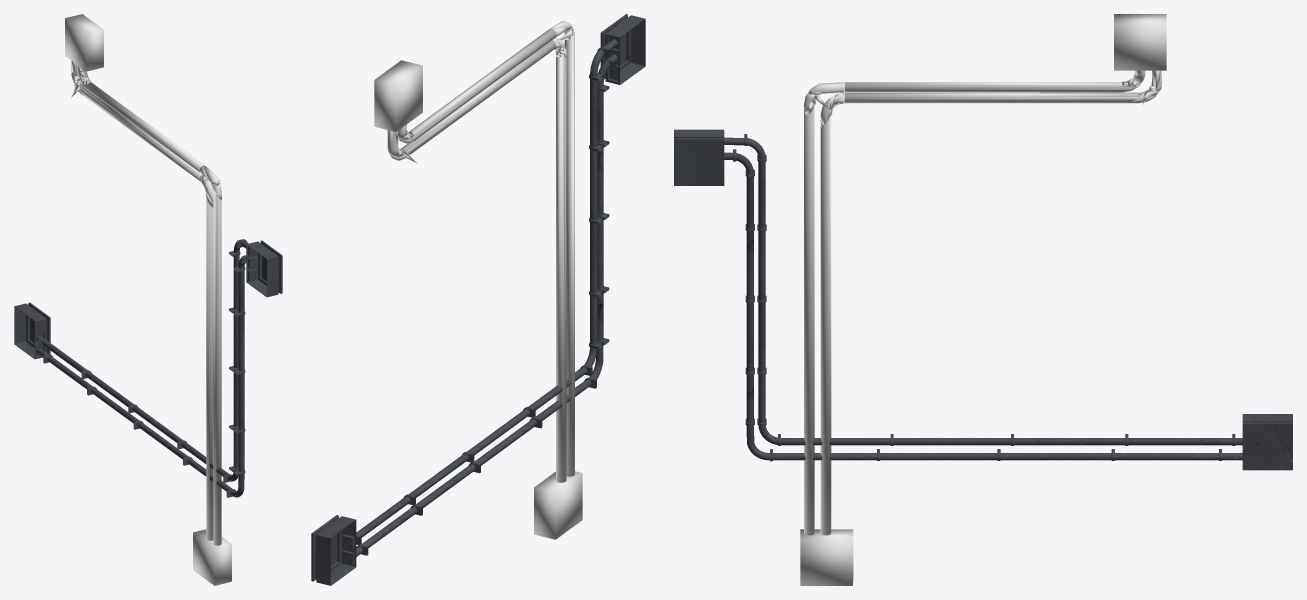
Rendered from SM_CablesAssemblyWall_03.fbx.
The picture shows the model from 3 angles, left to right: view 1: azimuth 30°, elevation 25°; view 2: azimuth 150°, elevation 25°; view 3: azimuth 270°, elevation 25°; orthographic projection. The views are drawn at different scales.
Visible parts, largest first — view 1: SM_CablesAssemblyWall_03_ConvexHulls, SM_CablesAssemblyWall_03; view 2: SM_CablesAssemblyWall_03_ConvexHulls, SM_CablesAssemblyWall_03; view 3: SM_CablesAssemblyWall_03_ConvexHulls, SM_CablesAssemblyWall_03.
Boxes of the visible parts, x1,y1,x2,y2 form: SM_CablesAssemblyWall_03_ConvexHulls: [65, 14, 231, 585]; SM_CablesAssemblyWall_03: [14, 239, 282, 497]; SM_CablesAssemblyWall_03_ConvexHulls: [374, 21, 582, 539]; SM_CablesAssemblyWall_03: [311, 14, 645, 585]; SM_CablesAssemblyWall_03_ConvexHulls: [800, 14, 1166, 585]; SM_CablesAssemblyWall_03: [674, 129, 1292, 470].
Size of the model in its own units: 0.1055 by 2 by 2.
